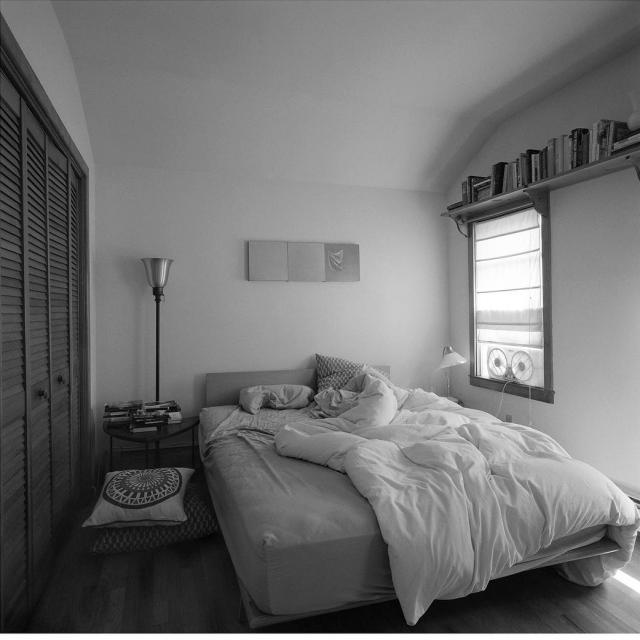bed: (184, 339, 640, 615)
